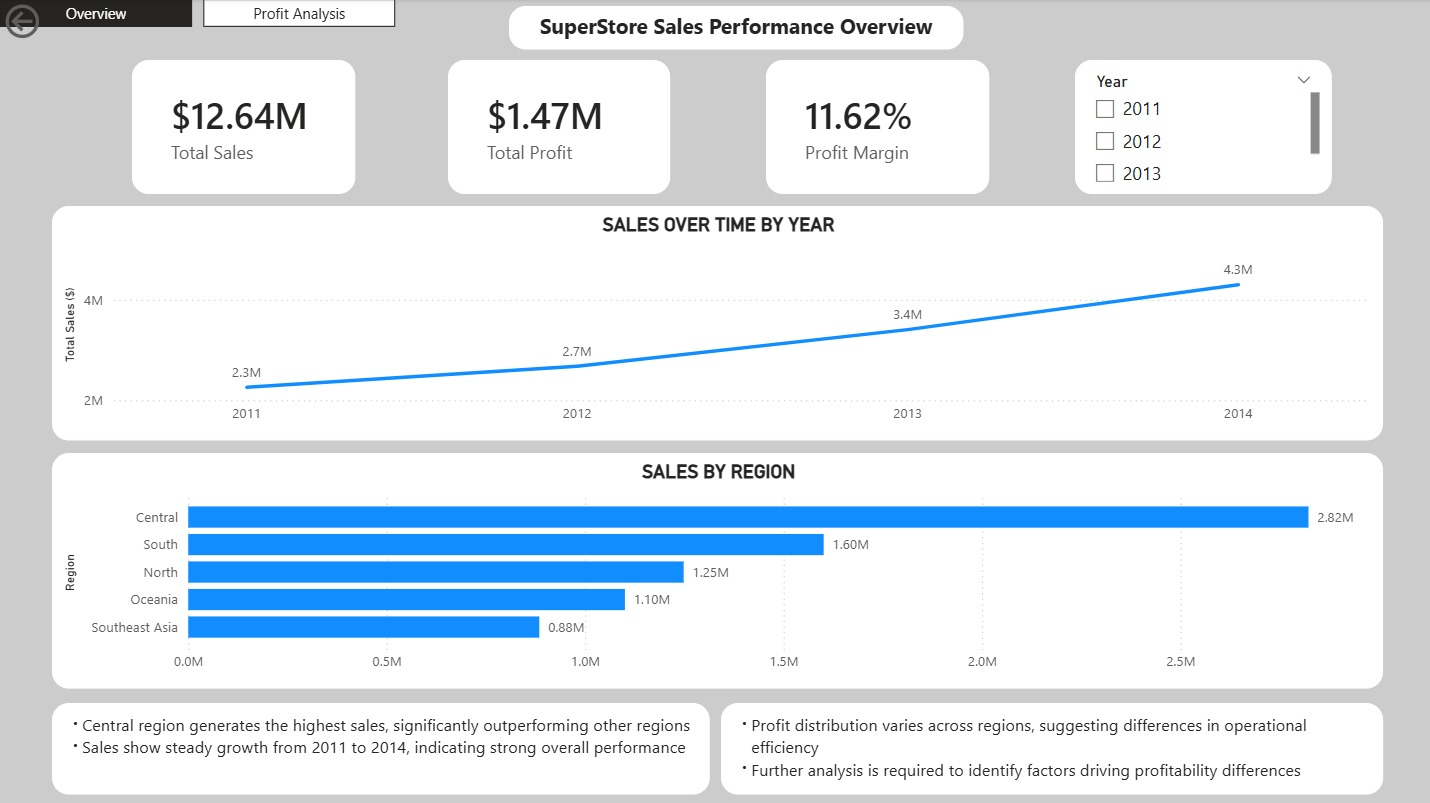

Layout of this report page (visuals, bound fields, positions):
{"tool":"powerbi","page":{"name":"Overview","canvas":[1280,720],"ordinal":0},"visuals":[{"type":"cardVisual","fields":{"Data":["SuperStoreOrders - SuperStoreOrders.Total Sales For"]},"box":[118.2,54.6,199.7,120],"z":0},{"type":"cardVisual","fields":{"Data":["SuperStoreOrders - SuperStoreOrders.Total Profit"]},"box":[401,55,199,120],"z":1000},{"type":"lineChart","title":"SALES OVER TIME BY YEAR","fields":{"Category":["SuperStoreOrders - SuperStoreOrders.year"],"Y":["Sum(SuperStoreOrders - SuperStoreOrders.sales)"]},"box":[46.4,185.5,1191.8,210],"z":2000},{"type":"barChart","title":"SALES BY REGION","fields":{"Category":["SuperStoreOrders - SuperStoreOrders.region"],"Y":["Sum(SuperStoreOrders - SuperStoreOrders.sales)"]},"box":[46.4,406.4,1191.8,210.9],"z":3000},{"type":"slicer","fields":{"Values":["SuperStoreOrders - SuperStoreOrders.year"]},"box":[962.7,54.6,230.1,120],"z":4000},{"type":"textbox","box":[455.8,6.3,406.6,38.5],"z":5000},{"type":"cardVisual","fields":{"Data":["SuperStoreOrders - SuperStoreOrders.Profit Margin"]},"box":[686,54.6,199.7,120],"z":6000},{"type":"textbox","box":[46.4,630,589.1,81.8],"z":7000},{"type":"textbox","box":[645.5,630,592.7,81.8],"z":8000},{"type":"pageNavigator","box":[0,0,355.5,26],"z":9000},{"type":"actionButton","box":[0,0,100,40],"z":10000}]}

Visuals, with their boxes on the page's 1280x720 design canvas (x1, y1, x2, y2). These are canvas units, not pixel positions in the 1430x803 screenshot, which may show the page scaled, cropped or inside an application window:
cardVisual - SuperStoreOrders - SuperStoreOrders.Total Sales For: pyautogui.locateOnScreen(118, 55, 318, 175)
cardVisual - SuperStoreOrders - SuperStoreOrders.Total Profit: pyautogui.locateOnScreen(401, 55, 600, 175)
"SALES OVER TIME BY YEAR" lineChart: pyautogui.locateOnScreen(46, 186, 1238, 396)
"SALES BY REGION" barChart: pyautogui.locateOnScreen(46, 406, 1238, 617)
slicer - SuperStoreOrders - SuperStoreOrders.year: pyautogui.locateOnScreen(963, 55, 1193, 175)
textbox: pyautogui.locateOnScreen(456, 6, 862, 45)
cardVisual - SuperStoreOrders - SuperStoreOrders.Profit Margin: pyautogui.locateOnScreen(686, 55, 886, 175)
textbox: pyautogui.locateOnScreen(46, 630, 636, 712)
textbox: pyautogui.locateOnScreen(646, 630, 1238, 712)
pageNavigator: pyautogui.locateOnScreen(0, 0, 356, 26)
actionButton: pyautogui.locateOnScreen(0, 0, 100, 40)
